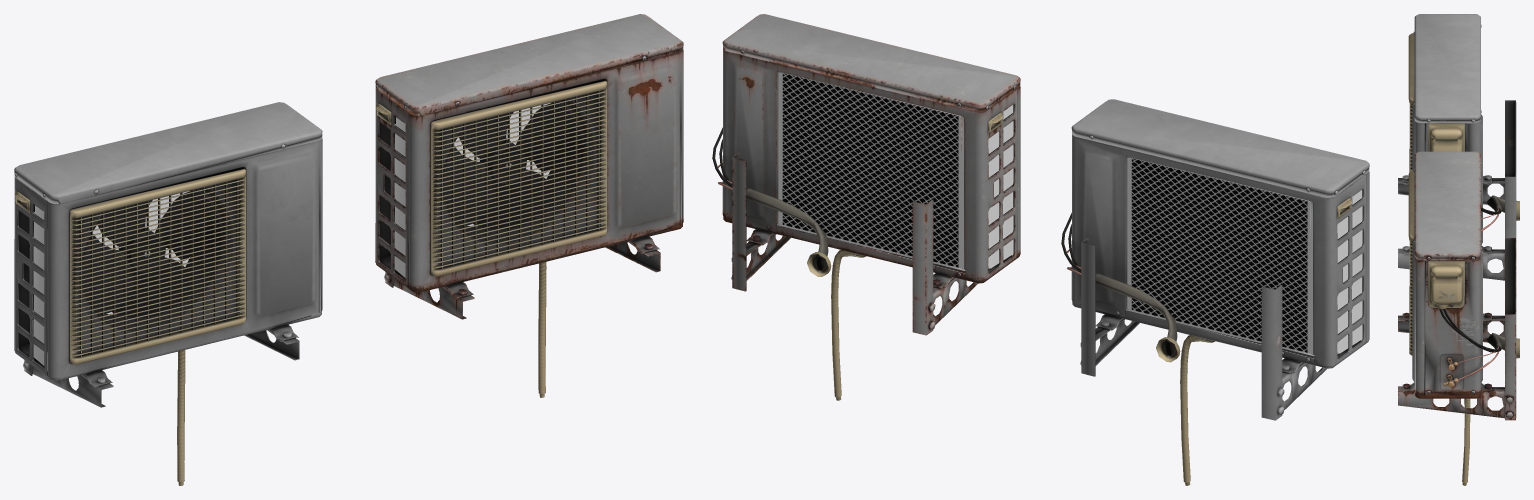
Rendered from exterior_aircon_unit.glb.
3 renders of one model, left to right at view 1: azimuth 30°, elevation 25°; view 2: azimuth 150°, elevation 25°; view 3: azimuth 270°, elevation 25°, orthographic. The views are drawn at different scales.
Visible parts, largest first — view 1: exterior_aircon_unit_rusted, exterior_aircon_unit; view 2: exterior_aircon_unit_rusted, exterior_aircon_unit; view 3: exterior_aircon_unit_rusted, exterior_aircon_unit.
Part boxes in pixels (left/top/right/bottom): exterior_aircon_unit_rusted: left=375, top=14, right=683, bottom=397; exterior_aircon_unit: left=14, top=102, right=322, bottom=485; exterior_aircon_unit_rusted: left=712, top=14, right=1020, bottom=400; exterior_aircon_unit: left=1061, top=99, right=1369, bottom=485; exterior_aircon_unit_rusted: left=1398, top=151, right=1519, bottom=485; exterior_aircon_unit: left=1398, top=14, right=1519, bottom=280.
Size of the model in its own units: 1.8 by 0.9279 by 0.3742.
Materials: 4 (4 with a texture image).
